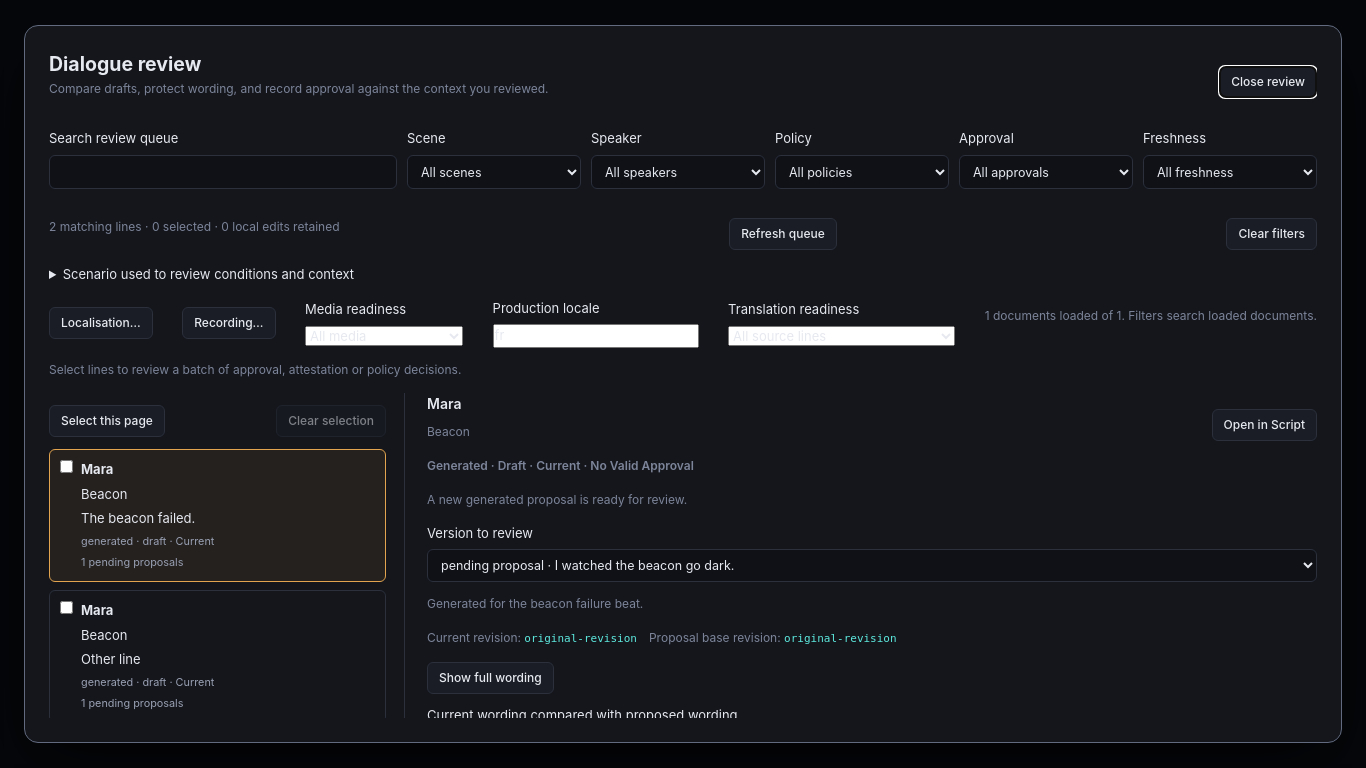
Test case: filters actual Review rows by locale freshness and opens its localisation workflow
This screenshot has width=1366, height=768.
Expected: the text "Other line" is shown, [81, 651, 141, 667]
Expected: the number of checkboxes is 2, [60, 460, 73, 473]; [60, 601, 73, 614]
Select "Translation out of date" in the dropdown labelled "Translation readiness" at [842, 336], box [728, 326, 955, 346]
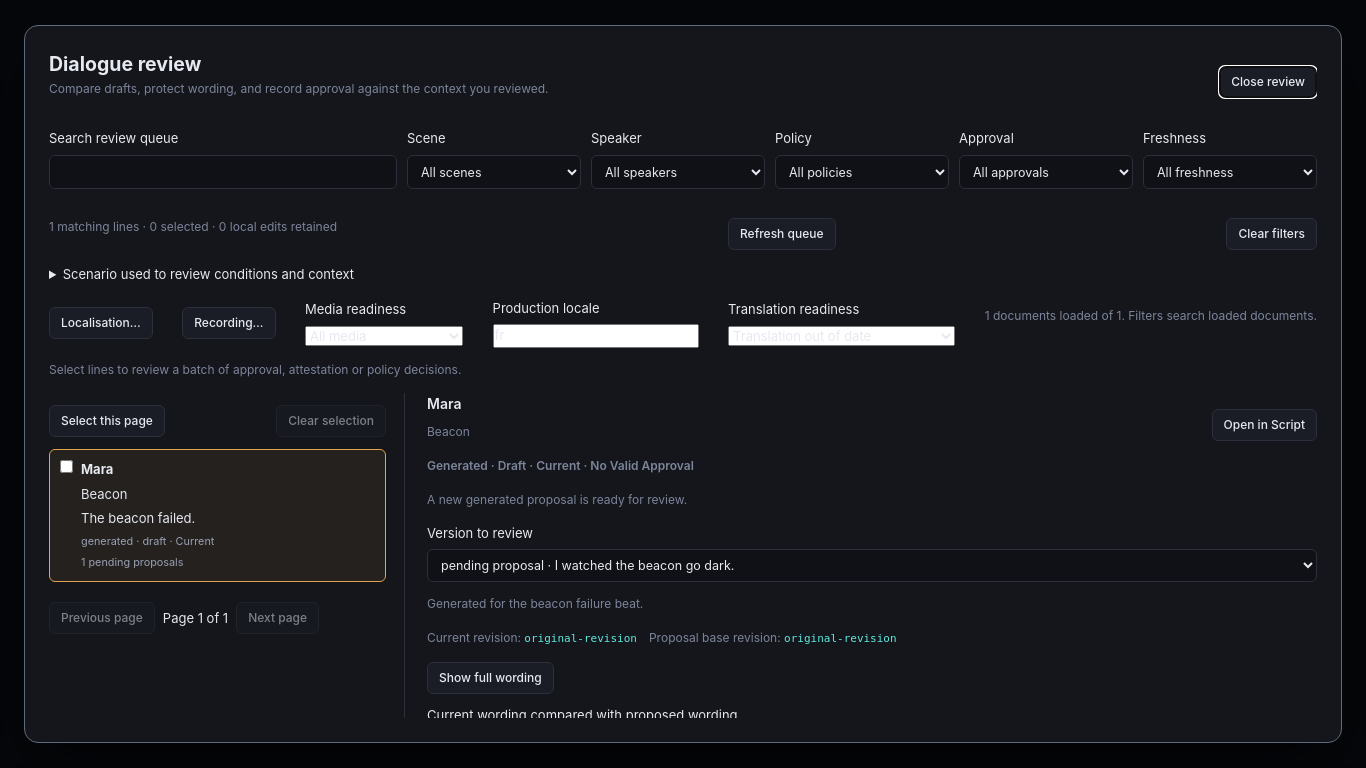
Expected: the text "The beacon failed." is shown, [81, 510, 195, 526]
Expected: the button "Other line" is gone
Click the button "Localisation…" at [101, 323], box [49, 307, 153, 339]
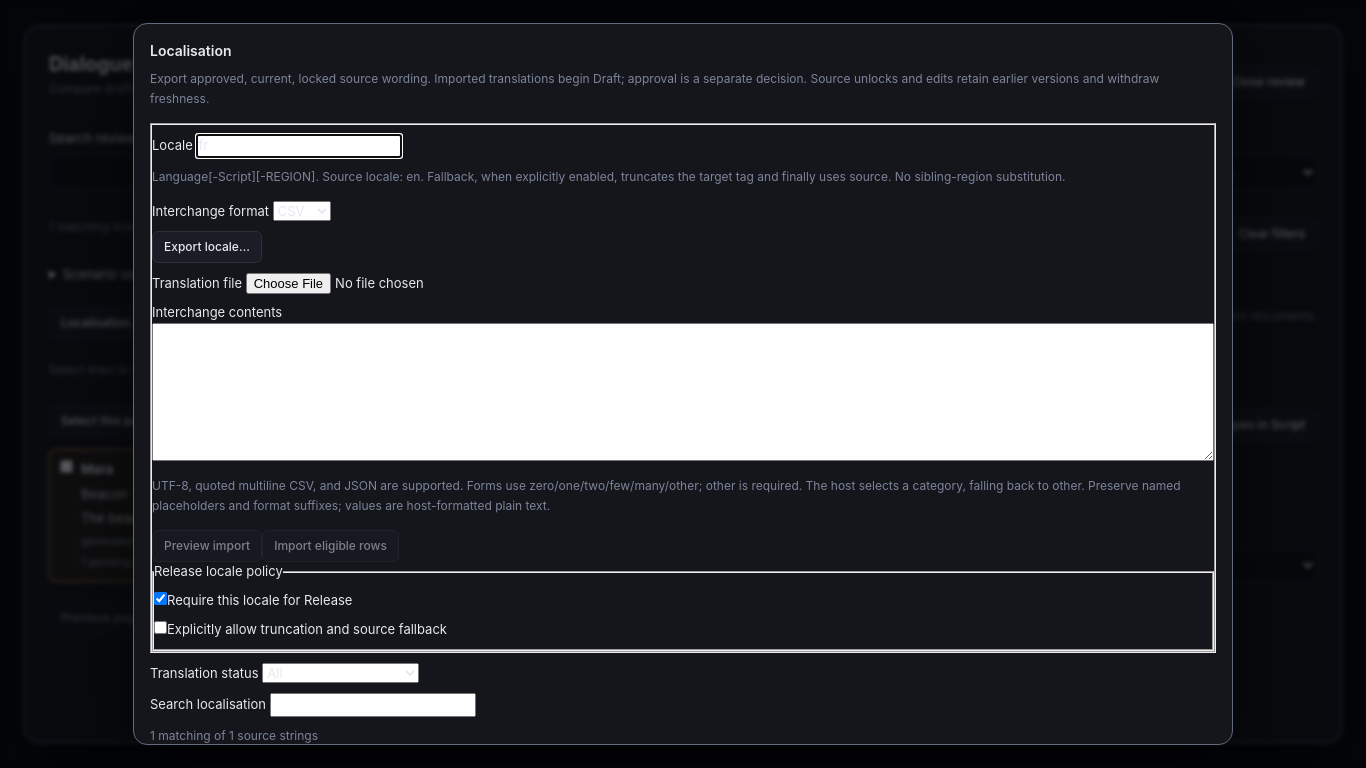
Expected: the heading "Localisation" is shown, [150, 42, 232, 59]
